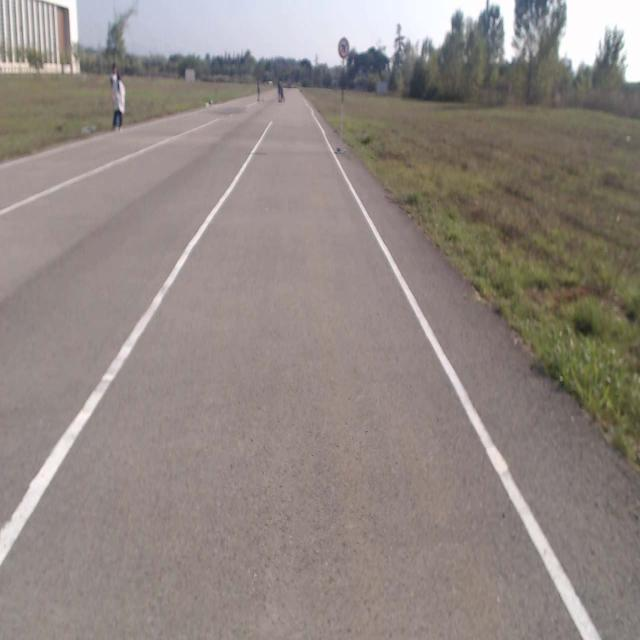soladonulmez: (339, 38, 349, 59)
